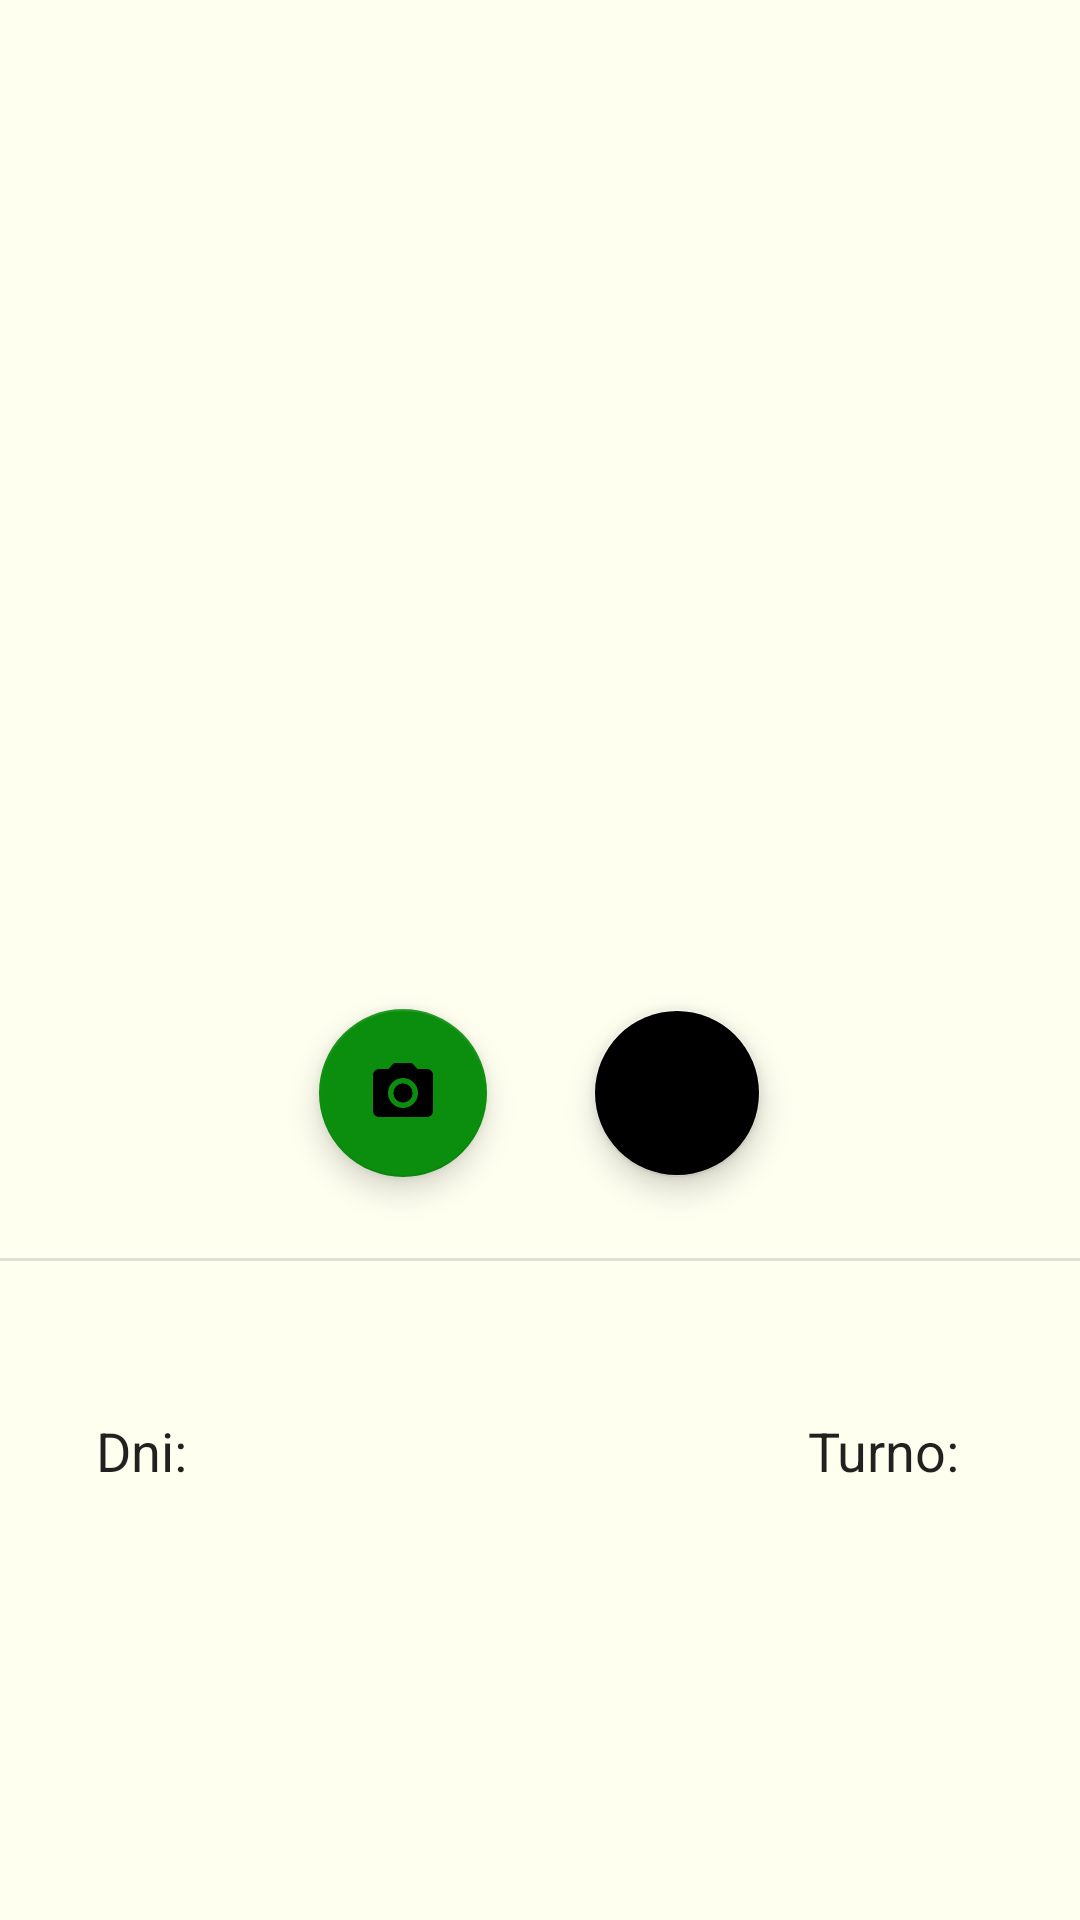

Where icons sit on this 1080px x 1920px app screen, as (x1, y1, x2, y2):
camera: (319, 1009, 487, 1177)
